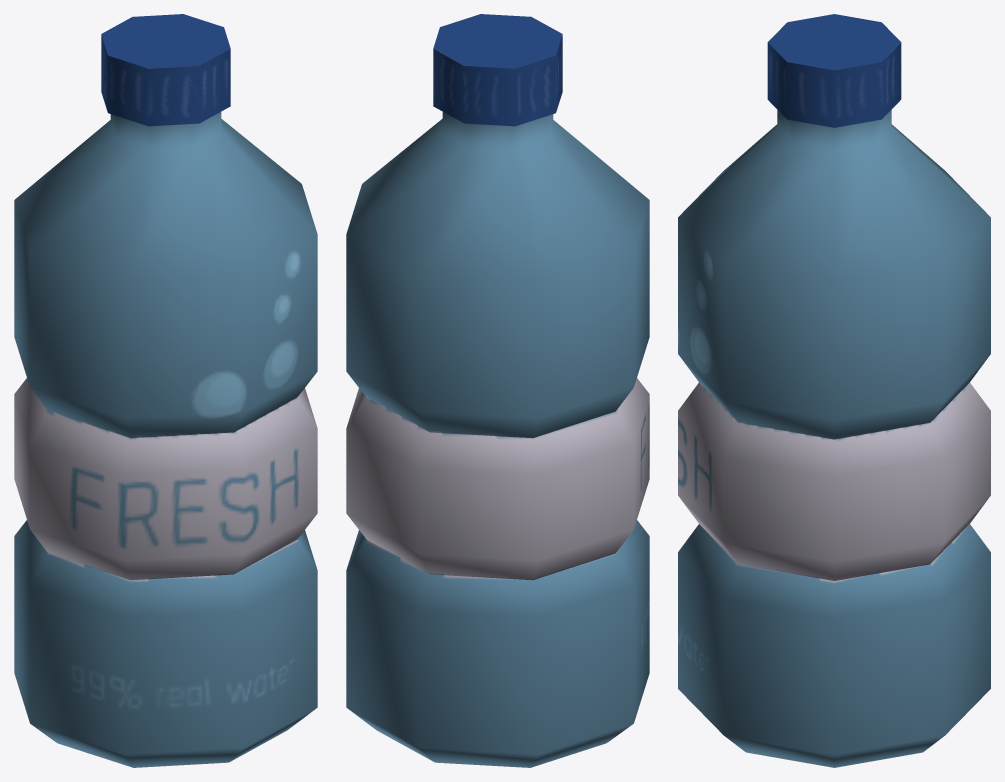
File: water.fbx
3 renders of one model, left to right at view 1: azimuth 30°, elevation 25°; view 2: azimuth 150°, elevation 25°; view 3: azimuth 270°, elevation 25°, orthographic.
Visible parts, largest first — view 1: Bottle; view 2: Bottle; view 3: Bottle.
Part boxes in pixels (bbox=[...]): Bottle: bbox=[14, 14, 317, 767]; Bottle: bbox=[346, 14, 649, 767]; Bottle: bbox=[678, 14, 990, 767].
Bounding box in the file's own units: 0.246 × 0.5841 × 0.2461.
